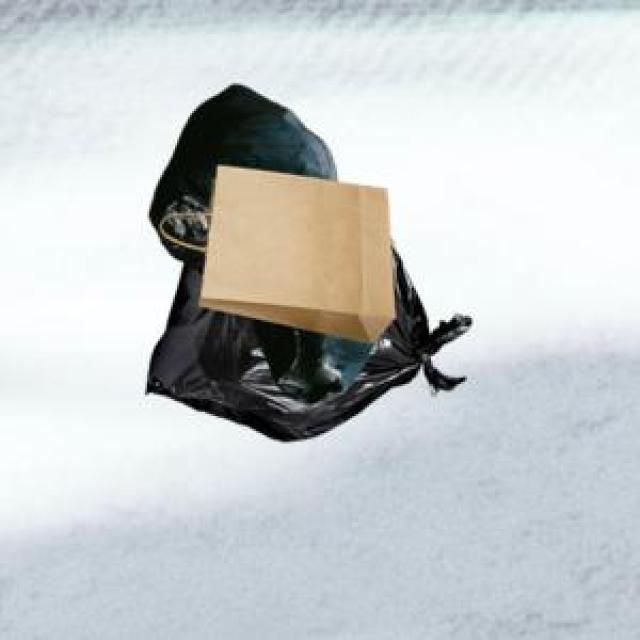miscellaneous trash: (143, 235, 467, 437), (145, 81, 331, 282), (230, 299, 371, 399)
paper: (190, 162, 390, 339)
